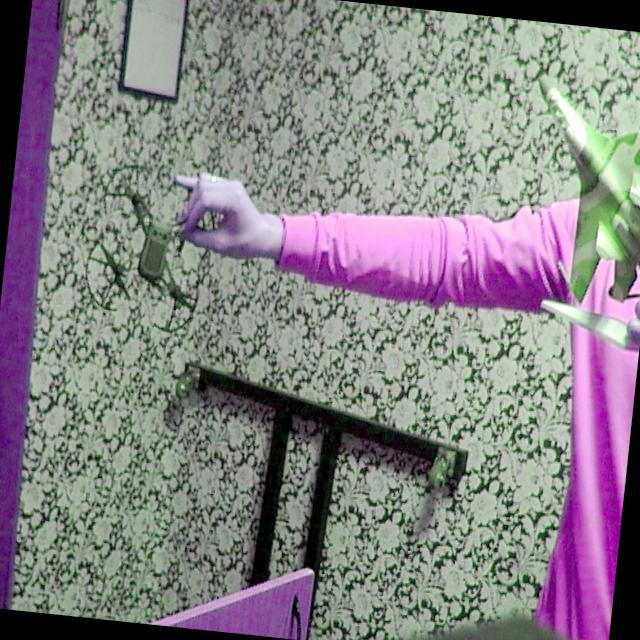drone: (75, 148, 217, 350)
